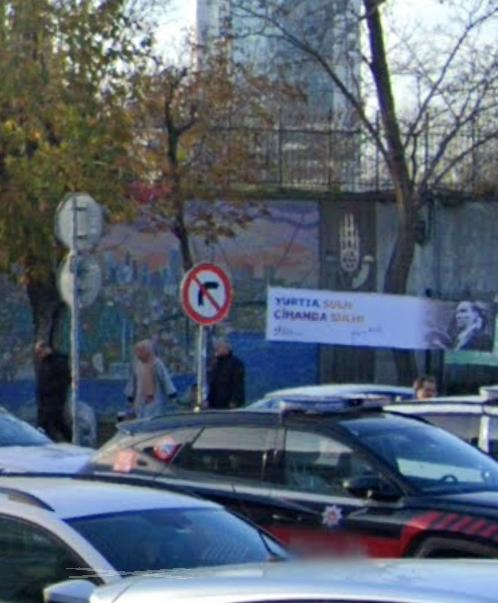rightturnsareforbidden: (184, 263, 230, 320)
